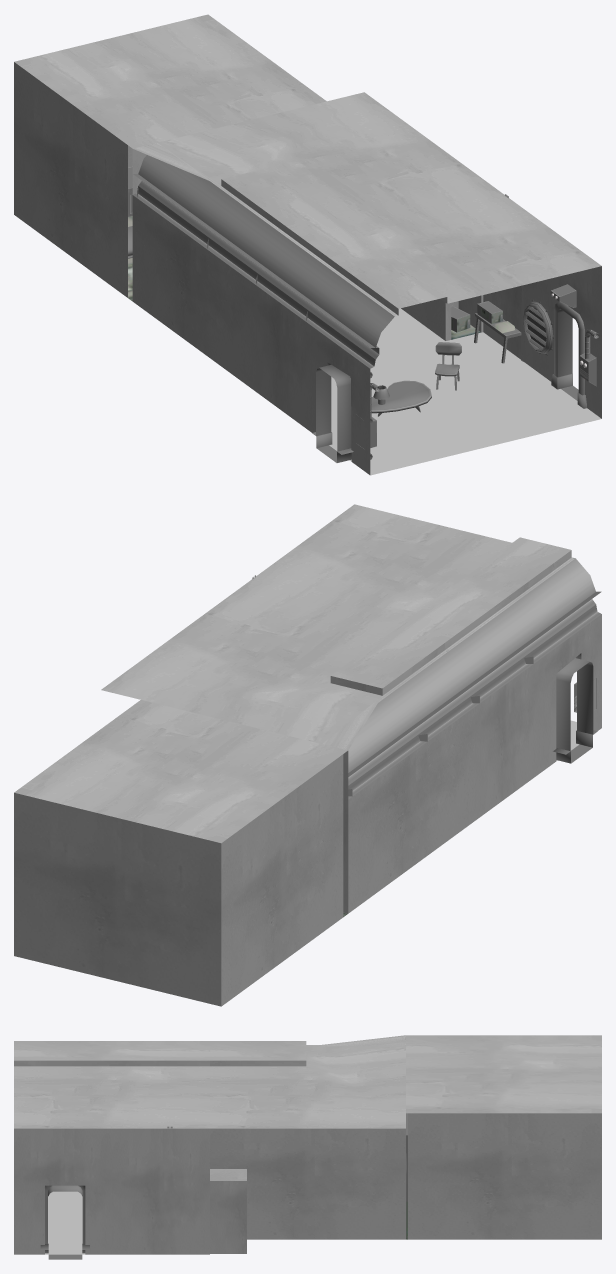
Rendered from MSH_living_quarters_L1_R1_optimized.fbx.
The picture shows the model from 3 angles, top to bottom: view 1: azimuth 30°, elevation 25°; view 2: azimuth 150°, elevation 25°; view 3: azimuth 270°, elevation 25°; orthographic projection. The views are drawn at different scales.
Parts seen in each view (by area): view 1: lightmap1, lightmap0, MSH_living_quarters_L1_R1_door; view 2: lightmap1, MSH_living_quarters_L1_R1_door; view 3: lightmap1, MSH_living_quarters_L1_R1_door.
Part boxes in pixels (x1,y1,x2,y2): lightmap1: (14, 14, 601, 475); lightmap0: (128, 166, 599, 448); MSH_living_quarters_L1_R1_door: (316, 309, 578, 462); lightmap1: (14, 504, 601, 1006); MSH_living_quarters_L1_R1_door: (556, 658, 593, 763); lightmap1: (14, 1035, 601, 1254); MSH_living_quarters_L1_R1_door: (48, 1185, 82, 1259).
Size of the model in its own units: 10.3 by 6.17 by 24.77.
